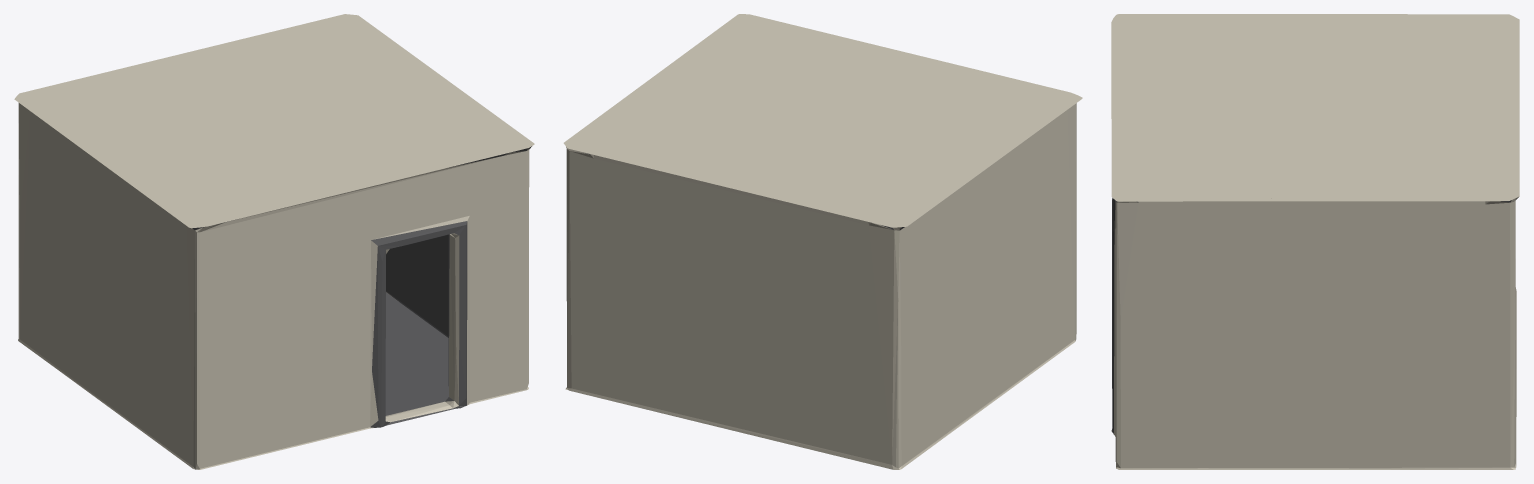
File: etape-1.glb
3 views of the same model, side by side, from view 1: azimuth 30°, elevation 25°; view 2: azimuth 150°, elevation 25°; view 3: azimuth 270°, elevation 25° (orthographic). The views are drawn at different scales.
Parts seen in each view (by area): view 1: geometry_0; view 2: geometry_0; view 3: geometry_0.
Part boxes in pixels (bbox=[...]): geometry_0: bbox=[14, 14, 534, 469]; geometry_0: bbox=[563, 14, 1082, 469]; geometry_0: bbox=[1111, 14, 1519, 469].
Bounding box in the file's own units: 0.8189 × 0.5521 × 0.7536.
